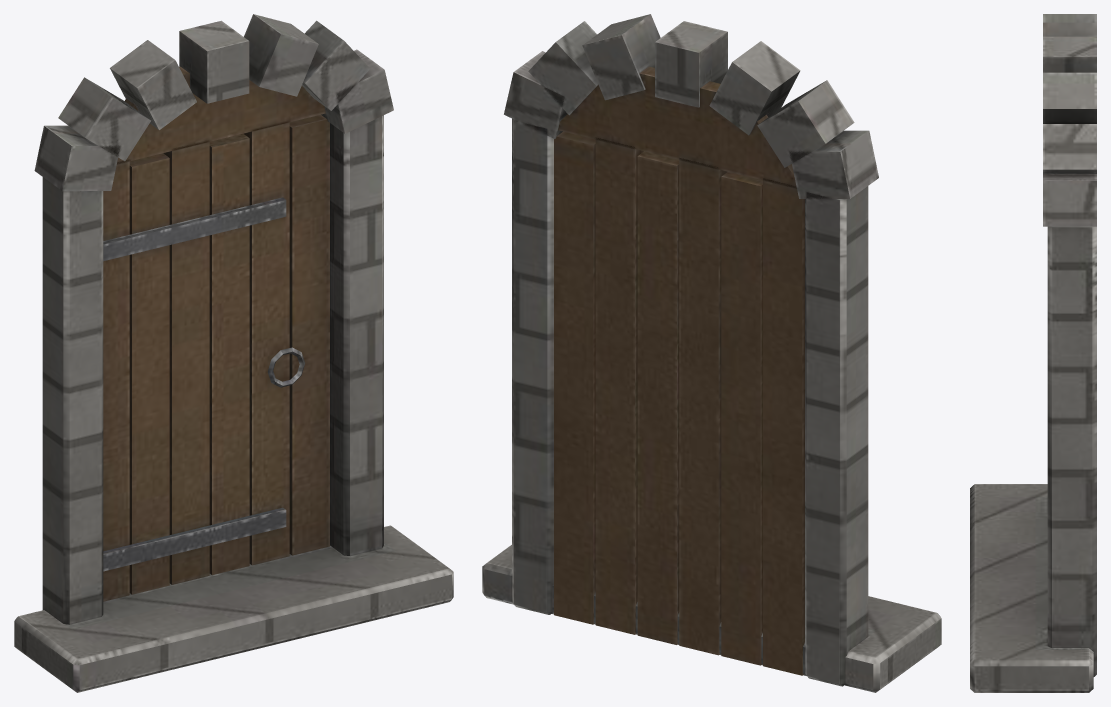
Rendered from porta.glb.
The picture shows the model from 3 angles, left to right: view 1: azimuth 30°, elevation 25°; view 2: azimuth 150°, elevation 25°; view 3: azimuth 270°, elevation 25°; orthographic projection. The views are drawn at different scales.
Visible parts, largest first — view 1: porta; view 2: porta; view 3: porta.
Boxes of the visible parts, x1,y1,x2,y2 form: porta: (14, 14, 453, 692); porta: (482, 14, 941, 692); porta: (970, 14, 1096, 692).
Size of the model in its own units: 1.9 by 2.75 by 0.565.
1 material, 1 textured.
